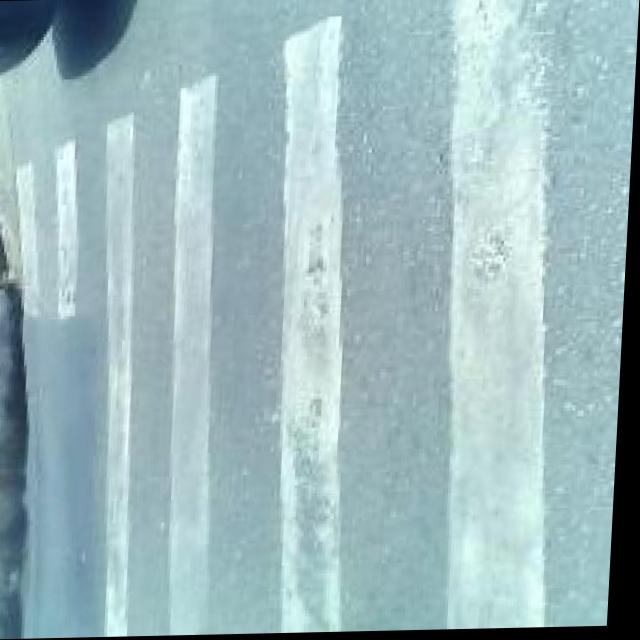zebra: (104, 29, 611, 638)
